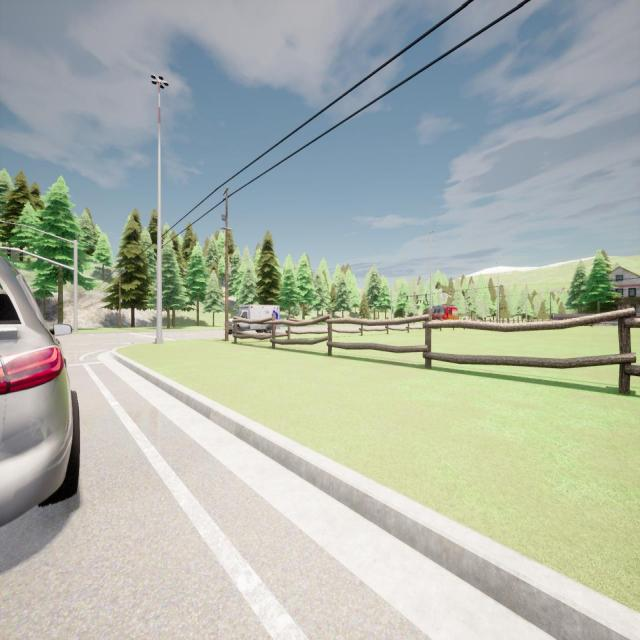Vehicle: (0, 256, 79, 525), (224, 305, 280, 334), (432, 305, 458, 320)
traffic_light: (7, 249, 11, 260)
